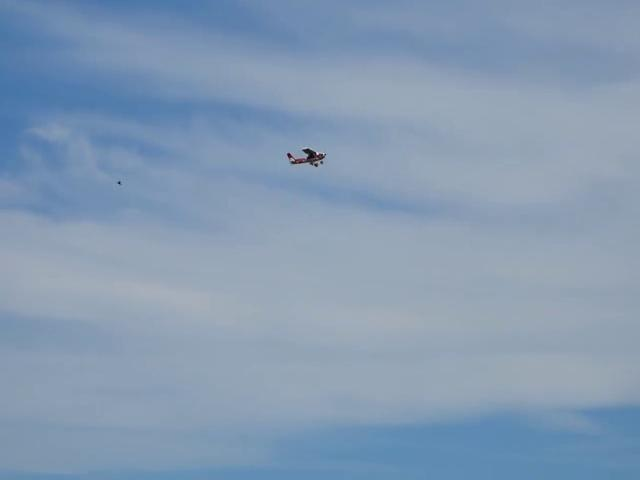Airplane: (287, 145, 326, 166)
